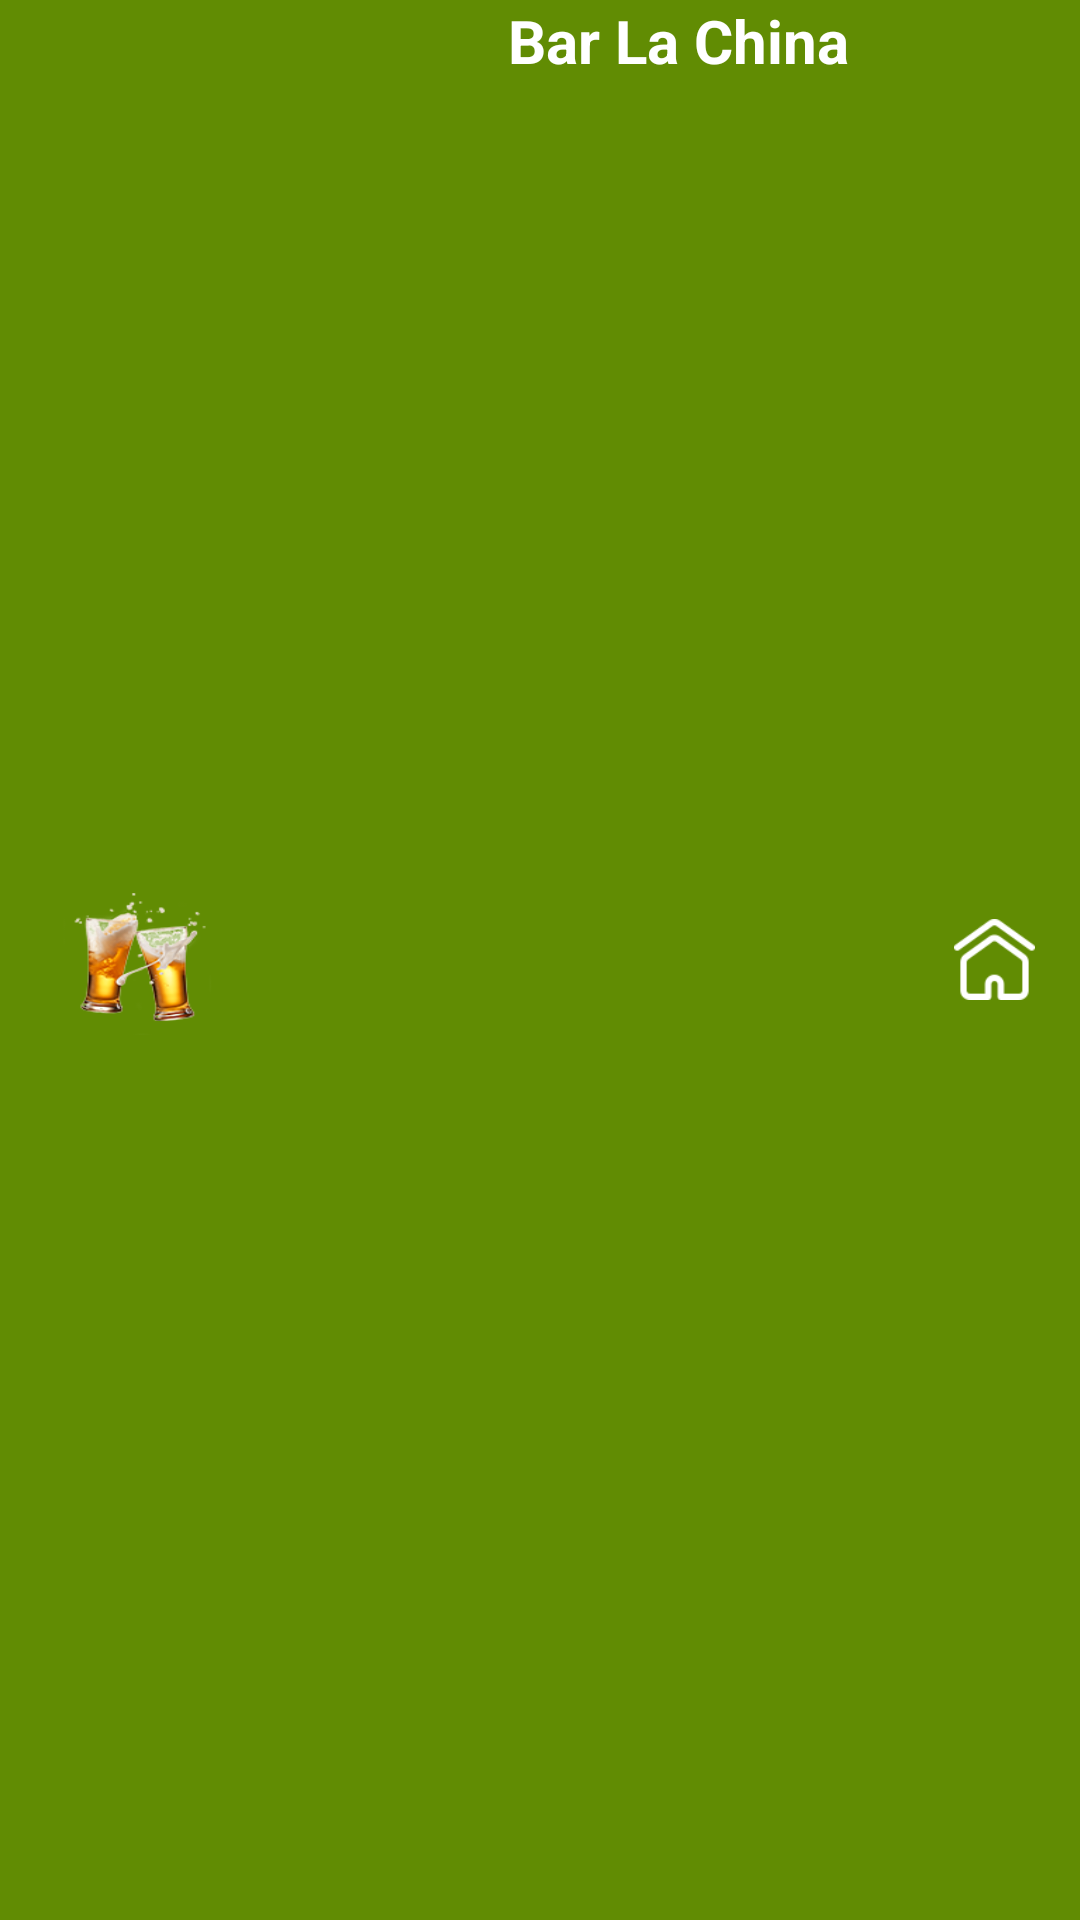

Named icons in this screenshot (1080×1920) and their centers, (x,y):
home: (994,959)
